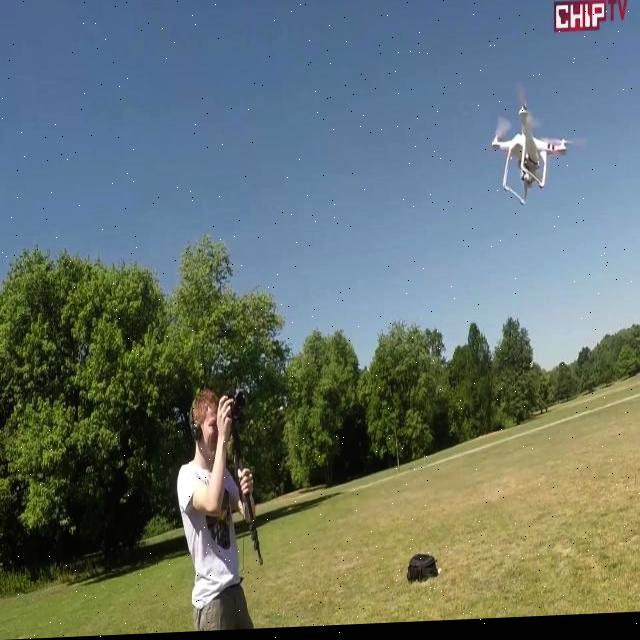drone: (491, 103, 571, 215)
